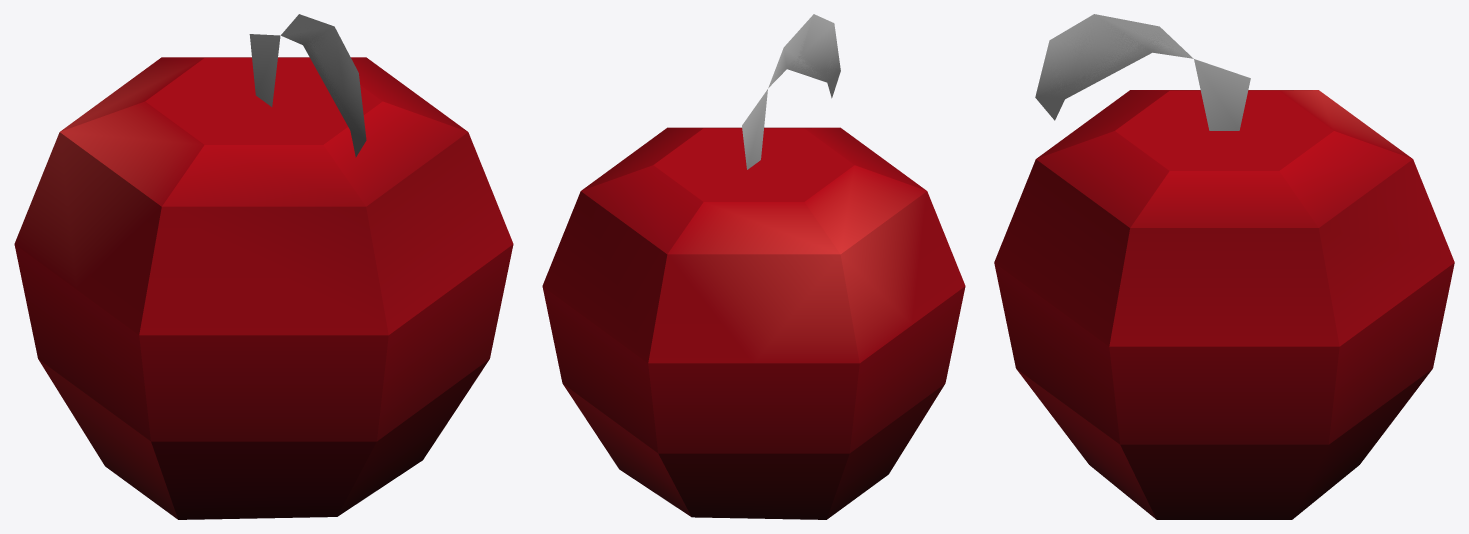
Rendered from Apple.fbx.
3 views of the same model, side by side, from view 1: azimuth 30°, elevation 25°; view 2: azimuth 150°, elevation 25°; view 3: azimuth 270°, elevation 25° (orthographic). The views are drawn at different scales.
Visible parts, largest first — view 1: Circle; view 2: Circle; view 3: Circle.
Part boxes in pixels (x1,y1,x2,y2): Circle: (14,14,513,519); Circle: (542,14,965,519); Circle: (994,14,1454,519).
Bounding box in the file's own units: 214 × 267 × 247.
